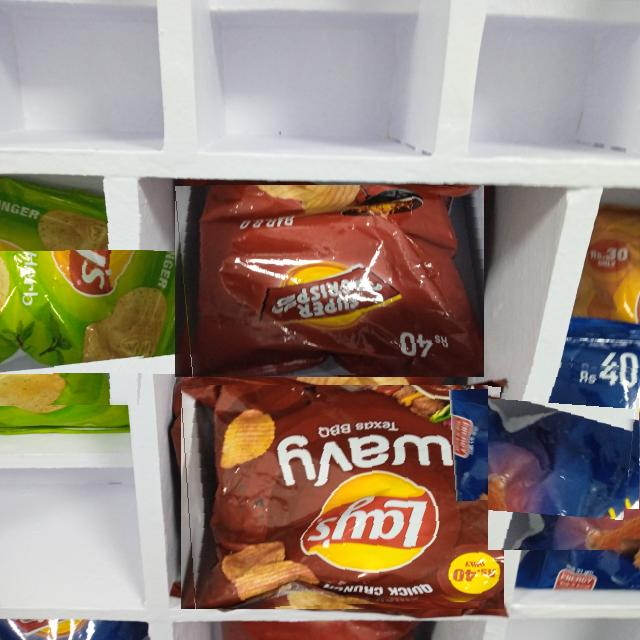Plastic: (180, 385, 504, 609), (174, 185, 484, 377), (0, 218, 157, 406), (488, 357, 640, 550)
